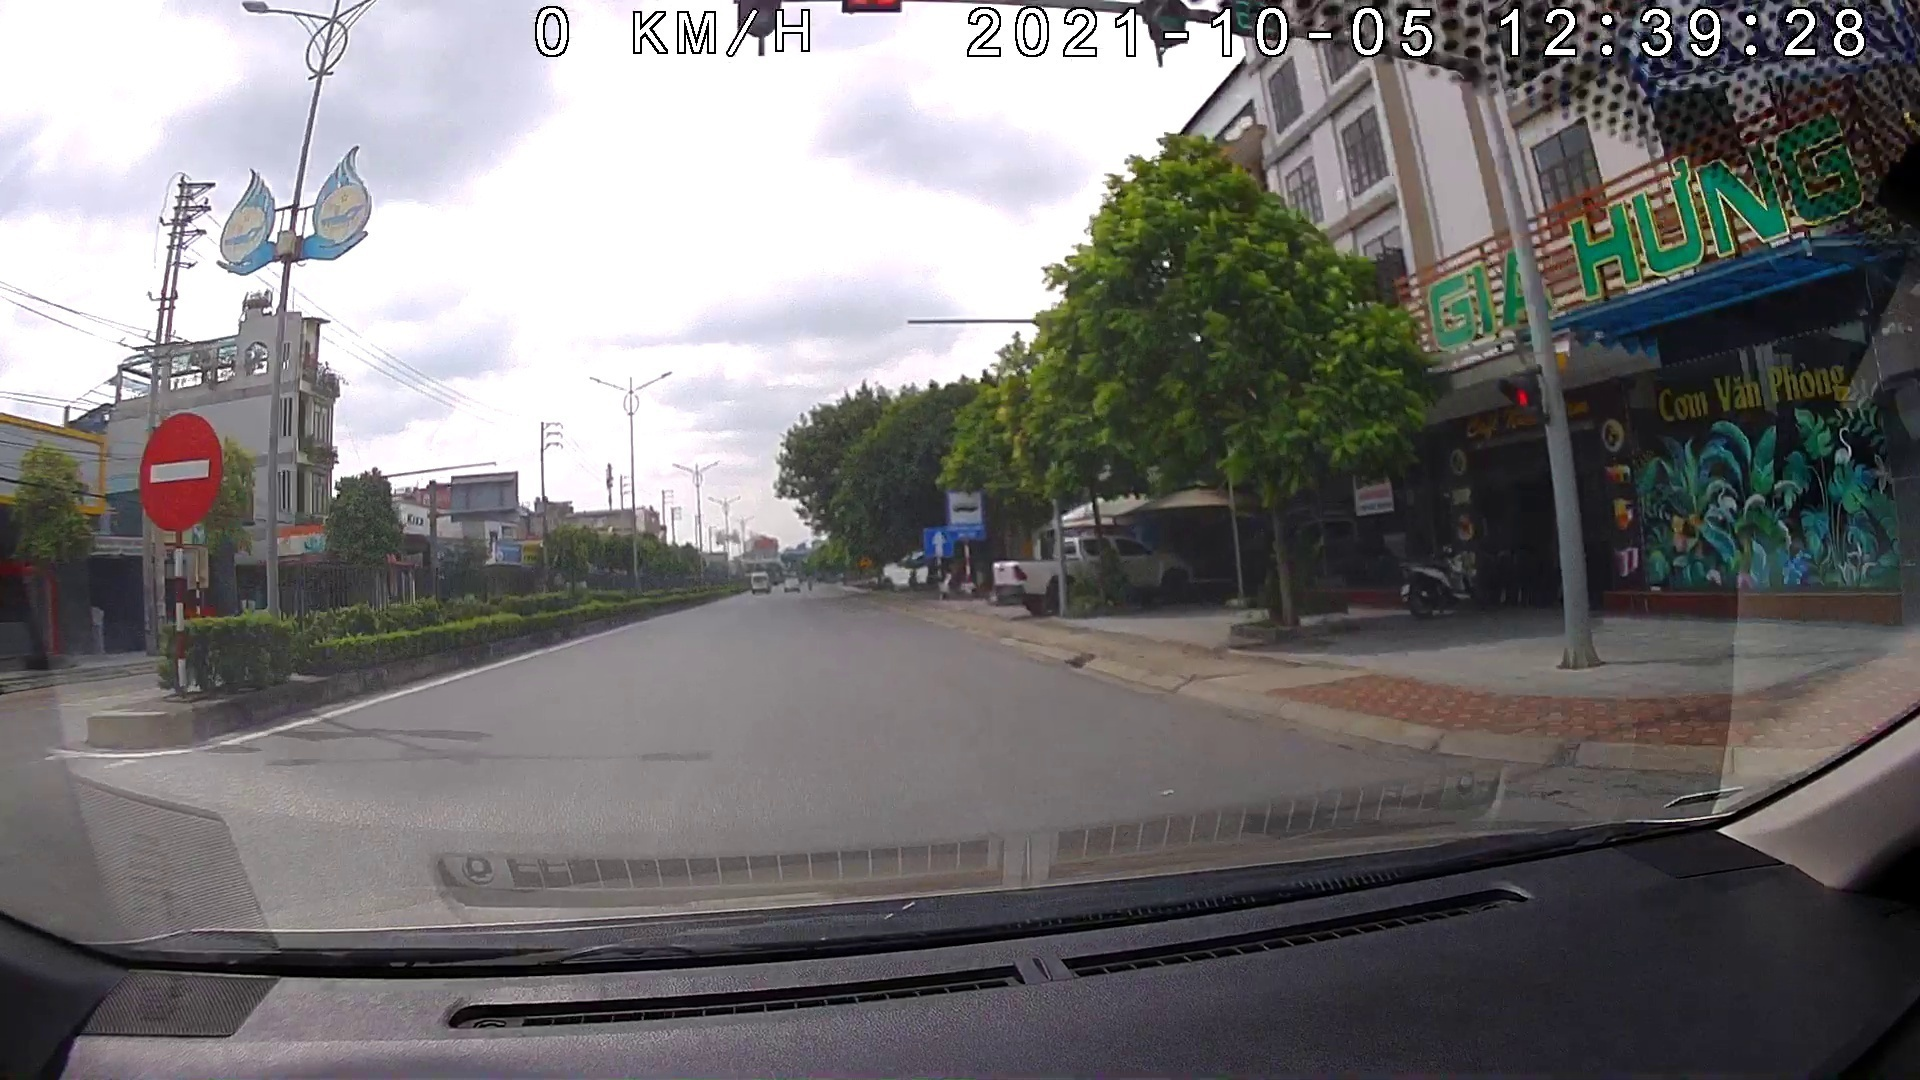Bien khac: (939, 484, 985, 545), (920, 526, 953, 562)
Cam di nguoc chieu: (135, 407, 224, 535)
